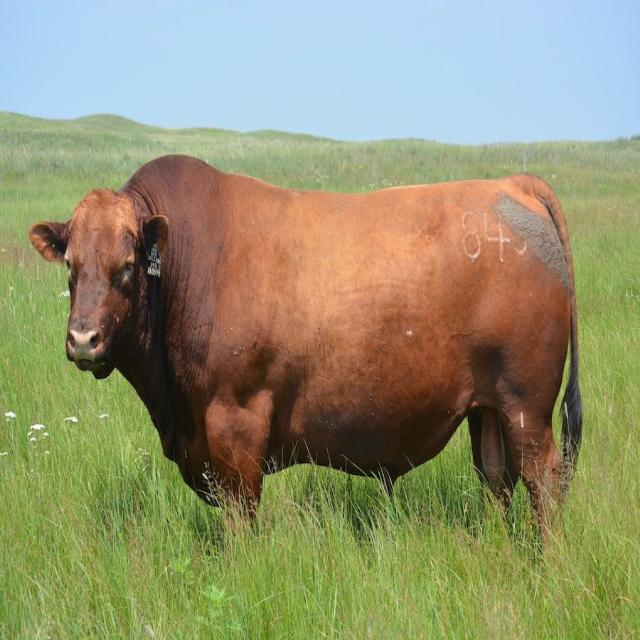cowFace: (22, 168, 174, 388)
